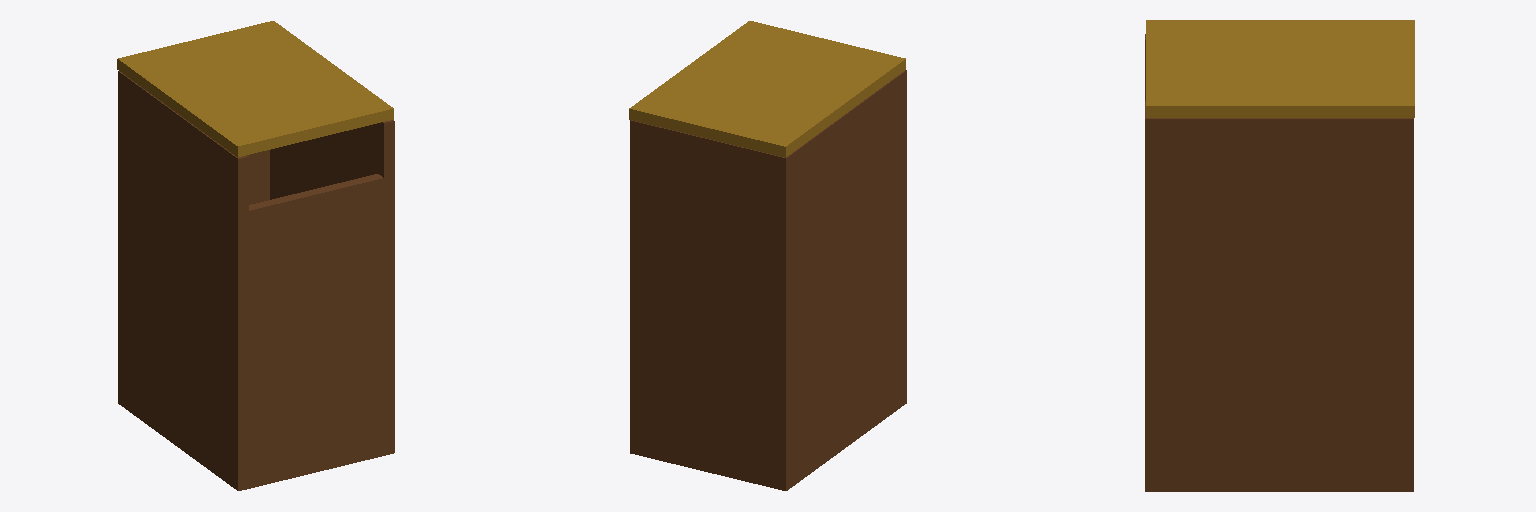
robot.urdf — cabinet:
<?xml version="1.0" ?>
<robot name="cabinet">
  <link name="base_link"/>
  <link name="door">
    <visual>
      <origin xyz="0.0 -0.1 0.0"/>
      <geometry>
        <box size="0.15 0.2 0.01"/>
      </geometry>
      <material name="brown_light">
        <color rgba="0.65 0.50 0.18 1.0"/>
      </material>
    </visual>
    <collision>
      <origin xyz="0.0 -0.1 0.0"/>
      <geometry>
        <box size="0.15 0.2 0.01"/>
      </geometry>
    </collision>
    <inertial>
      <mass value="0.1"/>
      <inertia ixx="0.01" ixy="0.0" ixz="0.0" iyy="0.01" iyz="0.0" izz="0.01"/>
    </inertial>
  </link>
  <link name="bottom">
    <visual>
      <geometry>
        <box size="0.15 0.2 0.01"/>
      </geometry>
      <material name="brown_dark">
        <color rgba="0.45 0.30 0.18 1.0"/>
      </material>
    </visual>
    <collision>
      <geometry>
        <box size="0.15 0.2 0.01"/>
      </geometry>
    </collision>
    <inertial>
      <mass value="0.1"/>
      <inertia ixx="0.01" ixy="0.0" ixz="0.0" iyy="0.01" iyz="0.0" izz="0.01"/>
    </inertial>
  </link>
  <link name="wall1">
    <visual>
      <geometry>
        <box size="0.15 0.01 0.25"/>
      </geometry>
      <material name="brown_dark">
        <color rgba="0.45 0.30 0.18 1.0"/>
      </material>
    </visual>
    <collision>
      <geometry>
        <box size="0.15 0.01 0.25"/>
      </geometry>
    </collision>
    <inertial>
      <mass value="0.1"/>
      <inertia ixx="0.01" ixy="0.0" ixz="0.0" iyy="0.01" iyz="0.0" izz="0.01"/>
    </inertial>
  </link>
  <link name="wall2">
    <visual>
      <geometry>
        <box size="0.15 0.01 0.3"/>
      </geometry>
      <material name="brown_dark">
        <color rgba="0.45 0.30 0.18 1.0"/>
      </material>
    </visual>
    <collision>
      <geometry>
        <box size="0.15 0.01 0.3"/>
      </geometry>
    </collision>
    <inertial>
      <mass value="0.1"/>
      <inertia ixx="0.01" ixy="0.0" ixz="0.0" iyy="0.01" iyz="0.0" izz="0.01"/>
    </inertial>
  </link>
  <link name="wall3">
    <visual>
      <geometry>
        <box size="0.01 0.2 0.3"/>
      </geometry>
      <material name="brown_dark">
        <color rgba="0.45 0.30 0.18 1.0"/>
      </material>
    </visual>
    <collision>
      <geometry>
        <box size="0.01 0.2 0.3"/>
      </geometry>
    </collision>
    <inertial>
      <mass value="0.1"/>
      <inertia ixx="0.01" ixy="0.0" ixz="0.0" iyy="0.01" iyz="0.0" izz="0.01"/>
    </inertial>
  </link>
  <link name="wall4">
    <visual>
      <geometry>
        <box size="0.01 0.2 0.3"/>
      </geometry>
      <material name="brown_dark">
        <color rgba="0.45 0.30 0.18 1.0"/>
      </material>
    </visual>
    <collision>
      <geometry>
        <box size="0.01 0.2 0.3"/>
      </geometry>
    </collision>
    <inertial>
      <mass value="0.1"/>
      <inertia ixx="0.01" ixy="0.0" ixz="0.0" iyy="0.01" iyz="0.0" izz="0.01"/>
    </inertial>
  </link>
  <joint name="door" type="revolute">
    <origin xyz="0.0 0.101 0.306"/>
    <axis xyz="1 0 0"/>
    <limit lower="-6.28" upper="0.0" effort="1.0" velocity="1.0"/>
    <parent link="base_link"/>
    <child link="door"/>
  </joint>
  <joint name="bottom" type="fixed">
    <origin xyz="0.0 0.0 0.0"/>
    <parent link="base_link"/>
    <child link="bottom"/>
  </joint>
  <joint name="wall1" type="fixed">
    <origin xyz="0.0 -0.095 0.125"/>
    <parent link="base_link"/>
    <child link="wall1"/>
  </joint>
  <joint name="wall2" type="fixed">
    <origin xyz="0.0 0.095 0.15"/>
    <parent link="base_link"/>
    <child link="wall2"/>
  </joint>
  <joint name="wall3" type="fixed">
    <origin xyz="-0.07 0.0 0.15"/>
    <parent link="base_link"/>
    <child link="wall3"/>
  </joint>
  <joint name="wall4" type="fixed">
    <origin xyz="0.07 0.0 0.15"/>
    <parent link="base_link"/>
    <child link="wall4"/>
  </joint>
</robot>

--- Render facts (derived) ---
The picture shows the robot from 3 angles, left to right: view 1: azimuth 30°, elevation 25°; view 2: azimuth 150°, elevation 25°; view 3: azimuth 270°, elevation 25°; orthographic projection.
Model cabinet with 7 links and 6 joints (1 revolute, 5 fixed), rooted at base_link, posed all joints at 0.
Visible links, largest first — view 1: wall1, wall3, door, wall4, bottom, wall2; view 2: wall2, wall3, door, bottom, wall4, wall1; view 3: wall4, door, wall2, bottom, wall1.
Link boxes in pixels (left/top/right/bottom): wall1: left=232, top=174, right=394, bottom=479; wall3: left=118, top=72, right=248, bottom=483; door: left=117, top=21, right=393, bottom=156; wall4: left=270, top=120, right=394, bottom=442; bottom: left=118, top=394, right=394, bottom=490; wall2: left=118, top=71, right=269, bottom=398; wall2: left=630, top=120, right=791, bottom=485; wall3: left=776, top=70, right=906, bottom=483; door: left=629, top=21, right=905, bottom=157; bottom: left=630, top=397, right=906, bottom=490; wall4: left=630, top=120, right=640, bottom=449; wall1: left=901, top=126, right=906, bottom=401; wall4: left=1145, top=114, right=1413, bottom=484; door: left=1146, top=20, right=1414, bottom=117; wall2: left=1401, top=118, right=1413, bottom=483; bottom: left=1145, top=479, right=1413, bottom=491; wall1: left=1145, top=101, right=1157, bottom=483.
Size in the robot's own frame: 0.15 by 0.201 by 0.316 metres.
Geometry: primitives only (box / cylinder / sphere), no mesh files.
